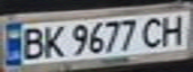6: (87, 19, 109, 54)
7: (118, 17, 142, 51), (103, 18, 124, 53)
9: (66, 20, 90, 56)
B: (15, 25, 48, 61)
C: (139, 15, 169, 48)
H: (157, 11, 190, 46)
K: (39, 22, 69, 58)
